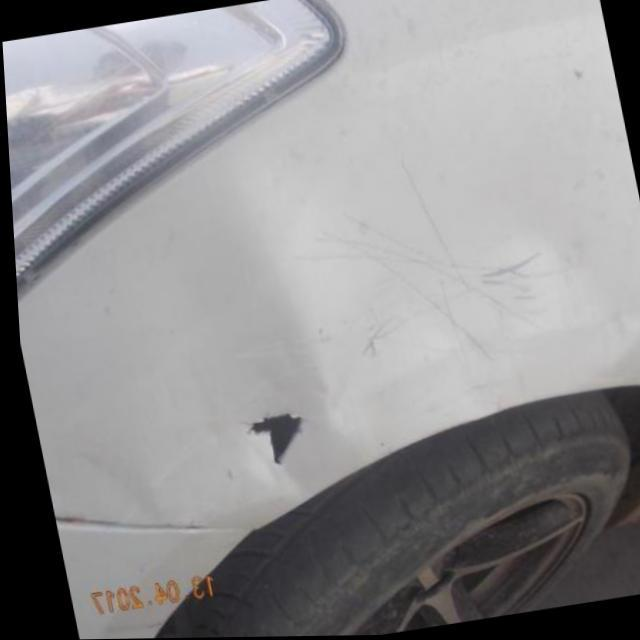crack: (234, 400, 298, 477)
